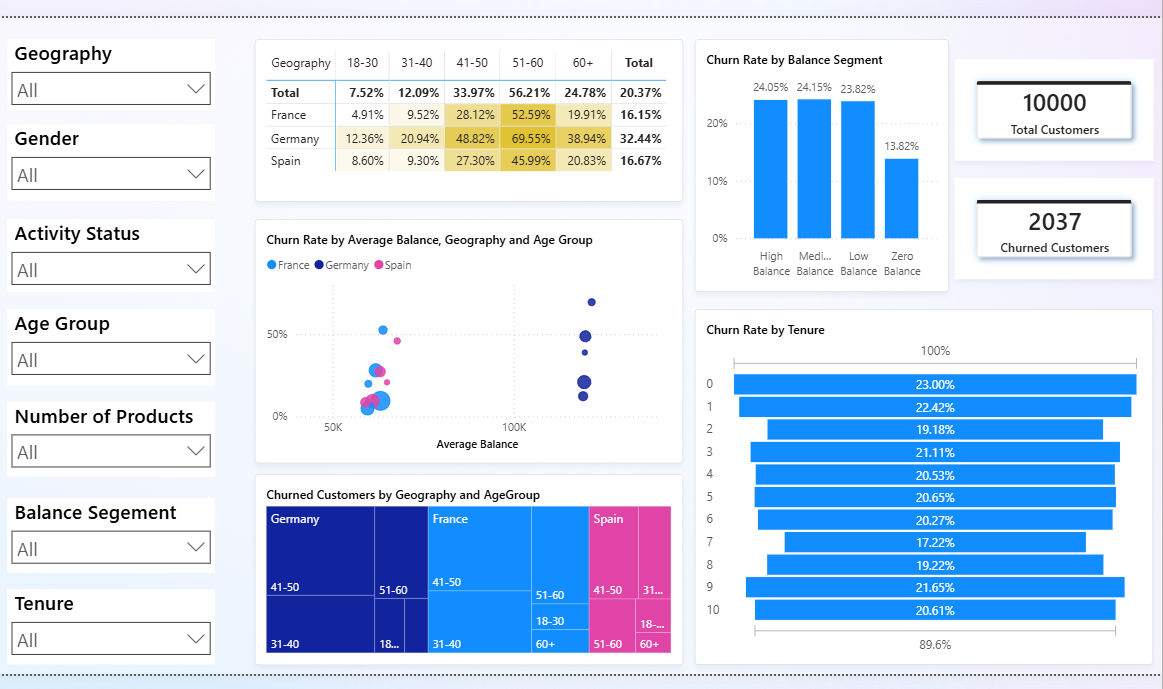

Layout of this report page (visuals, bound fields, positions):
{"tool":"powerbi","page":{"name":"Segmentation Analysis ","canvas":[1280,720],"ordinal":1},"visuals":[{"type":"columnChart","fields":{"Category":["bank_churn_cleaned.Balance Segment"],"Y":["bank_churn_cleaned.Churn Rate"]},"box":[766.9,22.8,279.4,278],"z":0},{"type":"pivotTable","fields":{"Rows":["bank_churn_cleaned.Geography"],"Columns":["bank_churn_cleaned.AgeGroup"],"Values":["bank_churn_cleaned.Churn Rate"]},"box":[283.7,22.8,470.4,178.2],"z":1000},{"type":"slicer","fields":{"Values":["bank_churn_cleaned.Geography"]},"box":[12.8,22.8,228.1,78.4],"z":2000},{"type":"slicer","fields":{"Values":["bank_churn_cleaned.Gender"]},"box":[12.8,116.9,228.1,84.1],"z":3000},{"type":"slicer","fields":{"Values":["bank_churn_cleaned.Activity Status"]},"box":[12.8,220.9,228.1,79.8],"z":4000},{"type":"slicer","fields":{"Values":["bank_churn_cleaned.AgeGroup"]},"box":[12.8,319.3,228.1,84.1],"z":5000},{"type":"slicer","fields":{"Values":["bank_churn_cleaned.NumOfProducts"]},"box":[12.8,421.9,228.1,82.7],"z":6000},{"type":"treemap","fields":{"Group":["bank_churn_cleaned.Geography"],"Details":["bank_churn_cleaned.AgeGroup"],"Values":["bank_churn_cleaned.Churned Customers"]},"box":[283.7,500.3,470.4,209.5],"z":7000},{"type":"scatterChart","title":"Churn Rate by Average Balance, Geography and Age Group","fields":{"X":["bank_churn_cleaned.Average Balance"],"Y":["bank_churn_cleaned.Churn Rate"],"Size":["bank_churn_cleaned.Total Customers"],"Series":["bank_churn_cleaned.Geography"],"Category":["bank_churn_cleaned.AgeGroup"]},"box":[283.7,220.9,470.4,268],"z":8000},{"type":"slicer","fields":{"Values":["bank_churn_cleaned.Balance Segment"]},"box":[12.8,527.4,228.1,82.7],"z":9000},{"type":"funnel","fields":{"Category":["bank_churn_cleaned.Tenure"],"Y":["bank_churn_cleaned.Churn Rate"]},"box":[766.9,319.3,503.2,390.6],"z":10000},{"type":"cardVisual","fields":{"Data":["bank_churn_cleaned.Churned Customers"]},"box":[1051.9,175.3,218.1,111.2],"z":11000},{"type":"cardVisual","fields":{"Data":["bank_churn_cleaned.Total Customers"]},"box":[1051.9,45.6,218.1,111.2],"z":12000},{"type":"slicer","fields":{"Values":["bank_churn_cleaned.Tenure"]},"box":[12.8,627.2,228.1,82.7],"z":13000}]}

Visuals, with their boxes on the page's 1280x720 design canvas (x1, y1, x2, y2). These are canvas units, not pixel positions in the 1163x689 screenshot, which may show the page scaled, cropped or inside an application window:
columnChart - bank_churn_cleaned.Balance Segment x bank_churn_cleaned.Churn Rate: l=767, t=23, r=1046, b=301
pivotTable - bank_churn_cleaned.Geography x bank_churn_cleaned.AgeGroup: l=284, t=23, r=754, b=201
slicer - bank_churn_cleaned.Geography: l=13, t=23, r=241, b=101
slicer - bank_churn_cleaned.Gender: l=13, t=117, r=241, b=201
slicer - bank_churn_cleaned.Activity Status: l=13, t=221, r=241, b=301
slicer - bank_churn_cleaned.AgeGroup: l=13, t=319, r=241, b=403
slicer - bank_churn_cleaned.NumOfProducts: l=13, t=422, r=241, b=505
treemap - bank_churn_cleaned.Geography x bank_churn_cleaned.AgeGroup: l=284, t=500, r=754, b=710
"Churn Rate by Average Balance, Geography and Age Group" scatterChart: l=284, t=221, r=754, b=489
slicer - bank_churn_cleaned.Balance Segment: l=13, t=527, r=241, b=610
funnel - bank_churn_cleaned.Tenure x bank_churn_cleaned.Churn Rate: l=767, t=319, r=1270, b=710
cardVisual - bank_churn_cleaned.Churned Customers: l=1052, t=175, r=1270, b=286
cardVisual - bank_churn_cleaned.Total Customers: l=1052, t=46, r=1270, b=157
slicer - bank_churn_cleaned.Tenure: l=13, t=627, r=241, b=710
